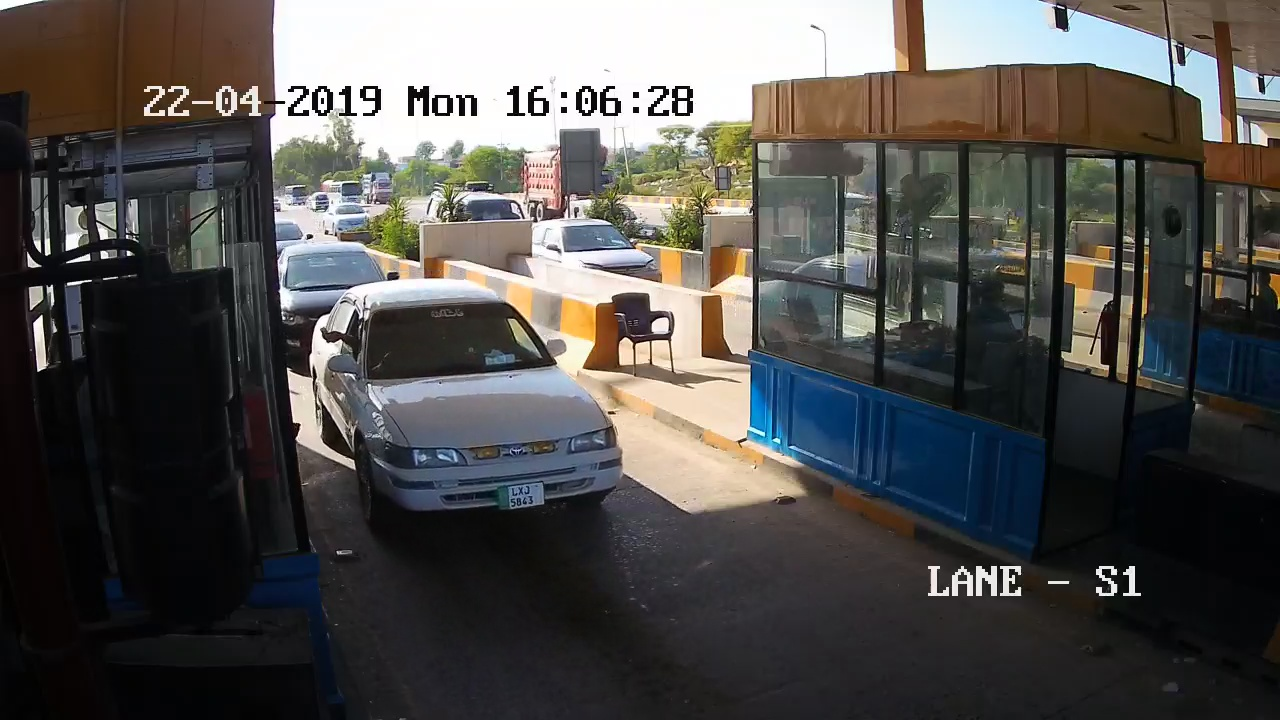Number Plate (Car): (493, 481, 544, 510)
